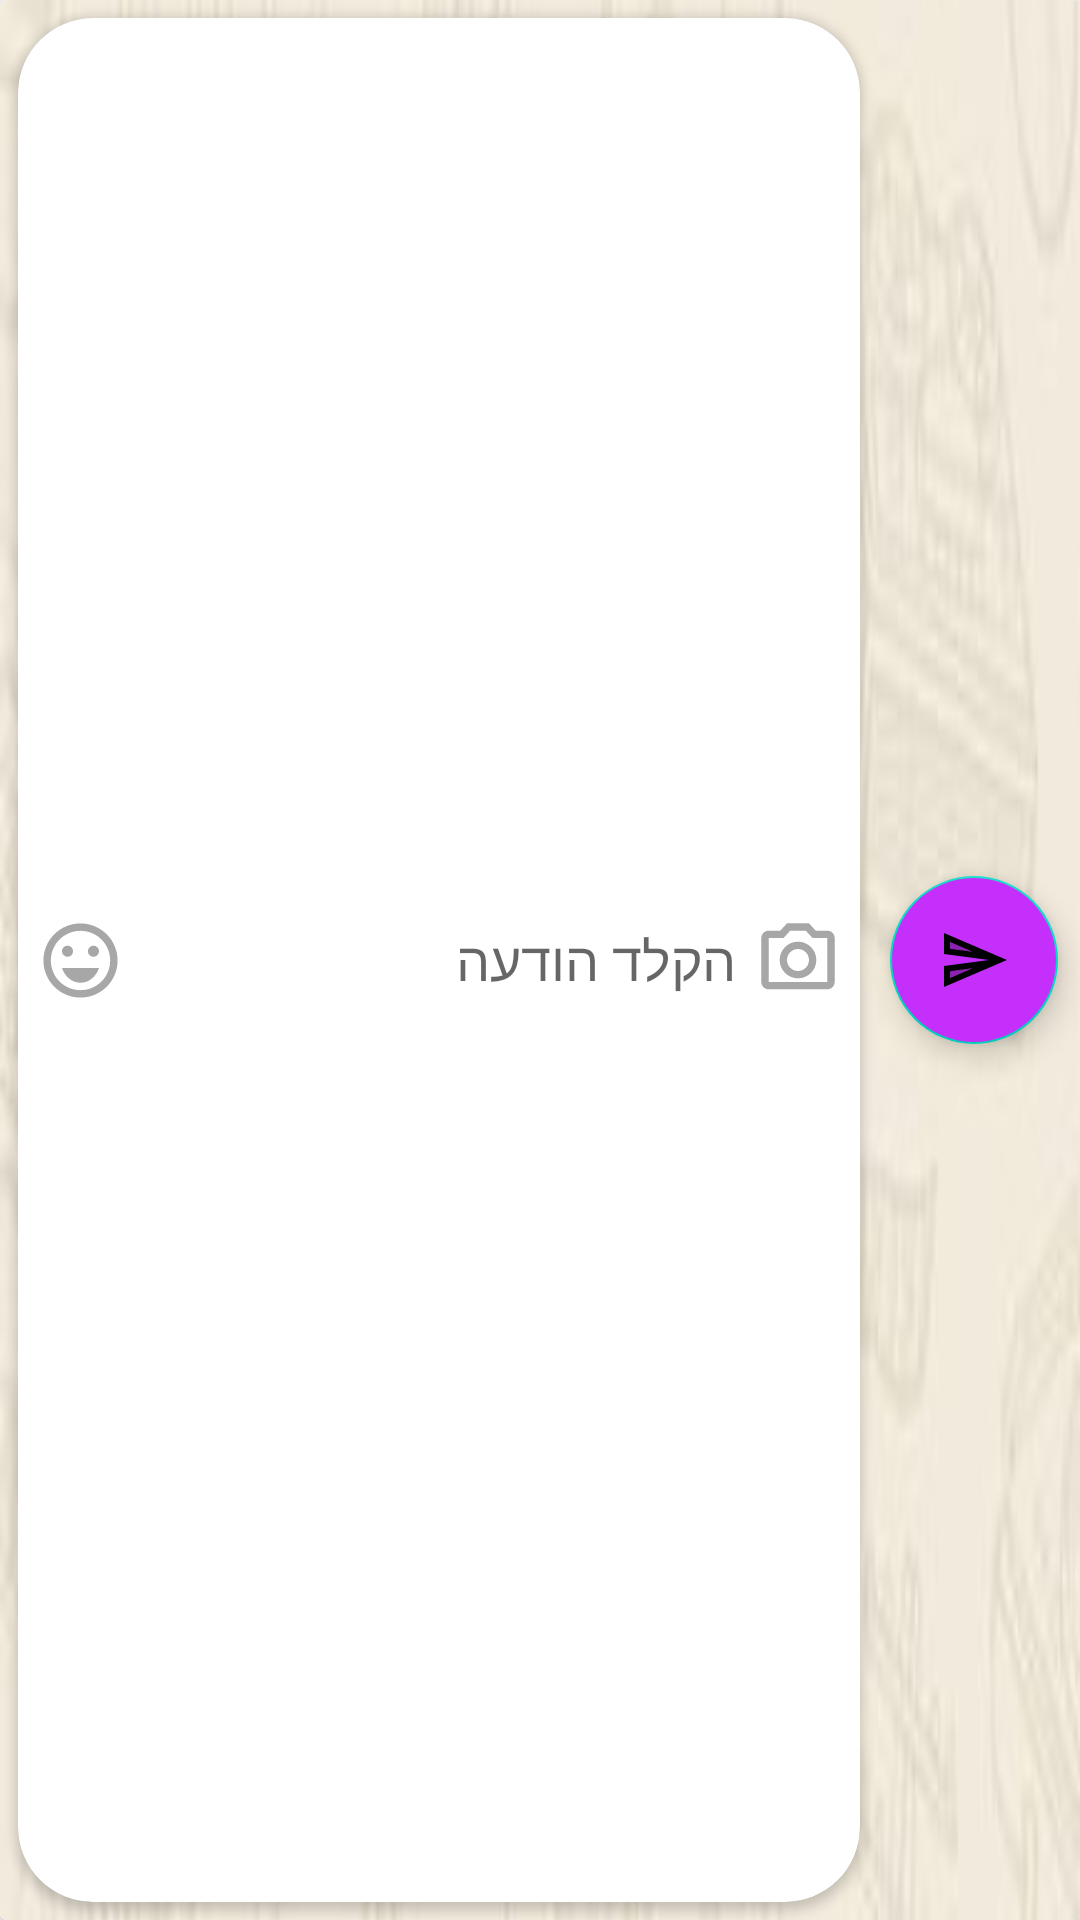

Icon bounding boxes for this 1080 × 1920 phone screenshot, format (x1, y1, x2, y2):
camera: (761, 923, 835, 989)
emoji: (43, 923, 118, 998)
send: (890, 876, 1058, 1044)
